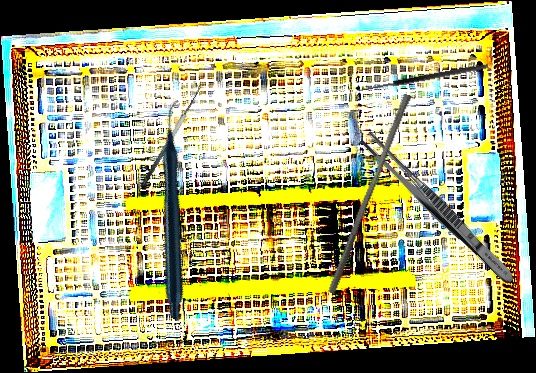Dressing Forceps: (356, 130, 520, 288)
Handpiece: (71, 98, 283, 323)
Hook Surgical: (354, 62, 490, 101)
Pusher: (327, 91, 413, 297)
Spatula Surgical: (131, 80, 207, 189)
